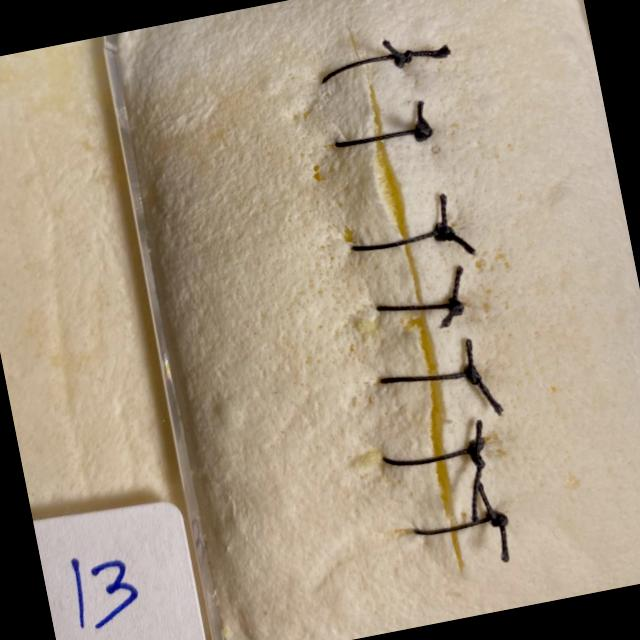knot: (468, 439, 486, 469), (416, 119, 434, 141), (465, 364, 483, 384), (488, 511, 508, 528), (434, 224, 453, 241), (396, 51, 413, 67), (449, 298, 464, 315)
leftover: (469, 371, 504, 415), (476, 478, 497, 522), (471, 445, 482, 524), (440, 229, 472, 255), (401, 48, 452, 60), (380, 38, 407, 60), (498, 514, 508, 565), (440, 302, 458, 328), (452, 266, 461, 309), (465, 336, 474, 377), (439, 195, 446, 234), (416, 98, 424, 132), (476, 417, 482, 451), (416, 126, 426, 142)
stitch: (319, 51, 413, 86), (349, 226, 455, 252), (380, 443, 485, 468), (332, 123, 431, 147), (411, 513, 508, 536), (377, 371, 481, 384), (374, 303, 465, 312)
wound: (346, 26, 465, 575)
